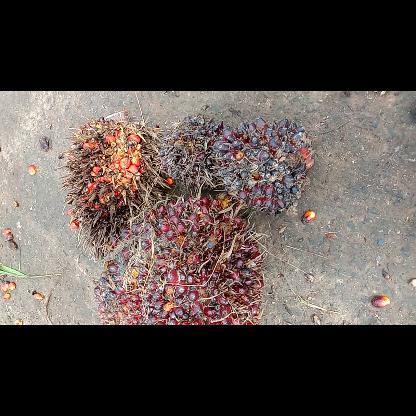TBS abnormal: (210, 112, 315, 218), (157, 115, 225, 196)
TBS masak: (91, 192, 269, 324)
Terlalu masak: (62, 108, 160, 264)
